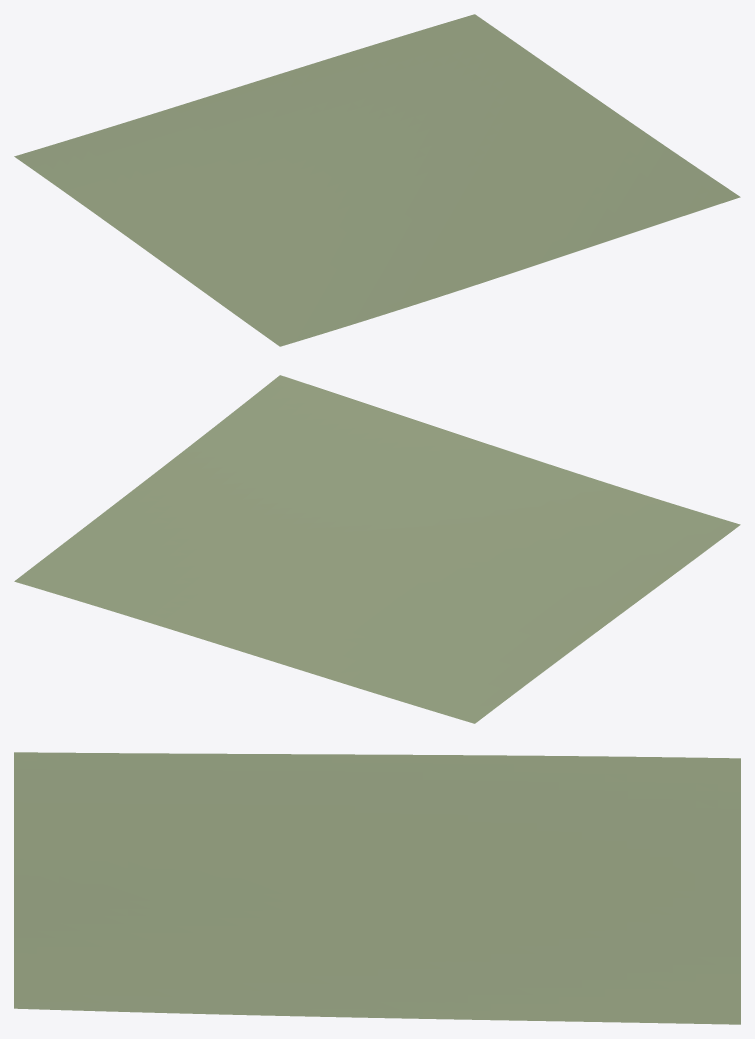
File: expanse-20-11.glb
The picture shows the model from 3 angles, top to bottom: view 1: azimuth 30°, elevation 25°; view 2: azimuth 150°, elevation 25°; view 3: azimuth 270°, elevation 25°; orthographic projection. The views are drawn at different scales.
Visible parts, largest first — view 1: expanse-20-11; view 2: expanse-20-11; view 3: expanse-20-11.
Boxes of the visible parts, bbox=[...] form: expanse-20-11: bbox=[14, 14, 740, 346]; expanse-20-11: bbox=[14, 375, 740, 723]; expanse-20-11: bbox=[14, 752, 740, 1024].
Size of the model in its own units: 256 by 22.1 by 256.
